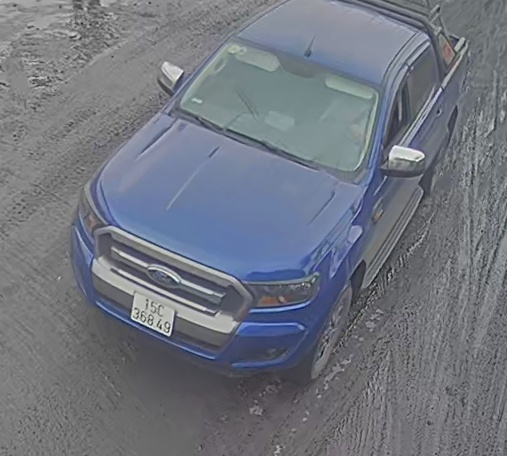vehicle plate: (126, 286, 173, 340)
